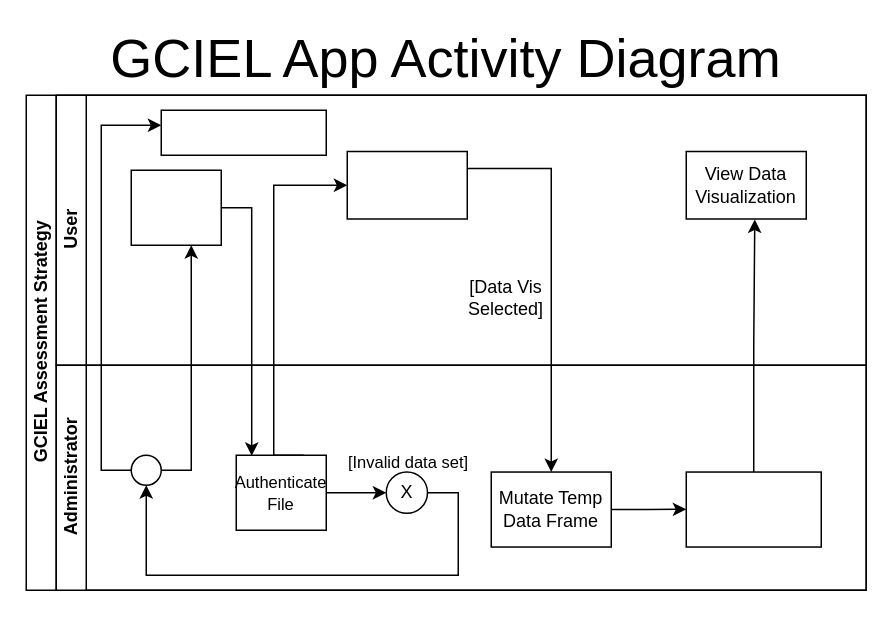
Some shapes in this 893 by 617 pixel diagram are drawn without their labels. The shapes that lost their labels are listed below. From the top down, each one's centre as x and y in pixels, then its label:
At pixel 243 132: "ARCS Google Form".
At pixel 406 184: "Access Data Vis Tab".
At pixel 175 207: "CSV Input".
At pixel 753 509: "Render Visualization".
